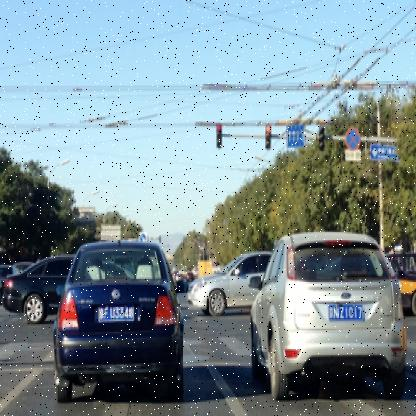licence: (96, 304, 134, 321), (328, 302, 362, 318)
